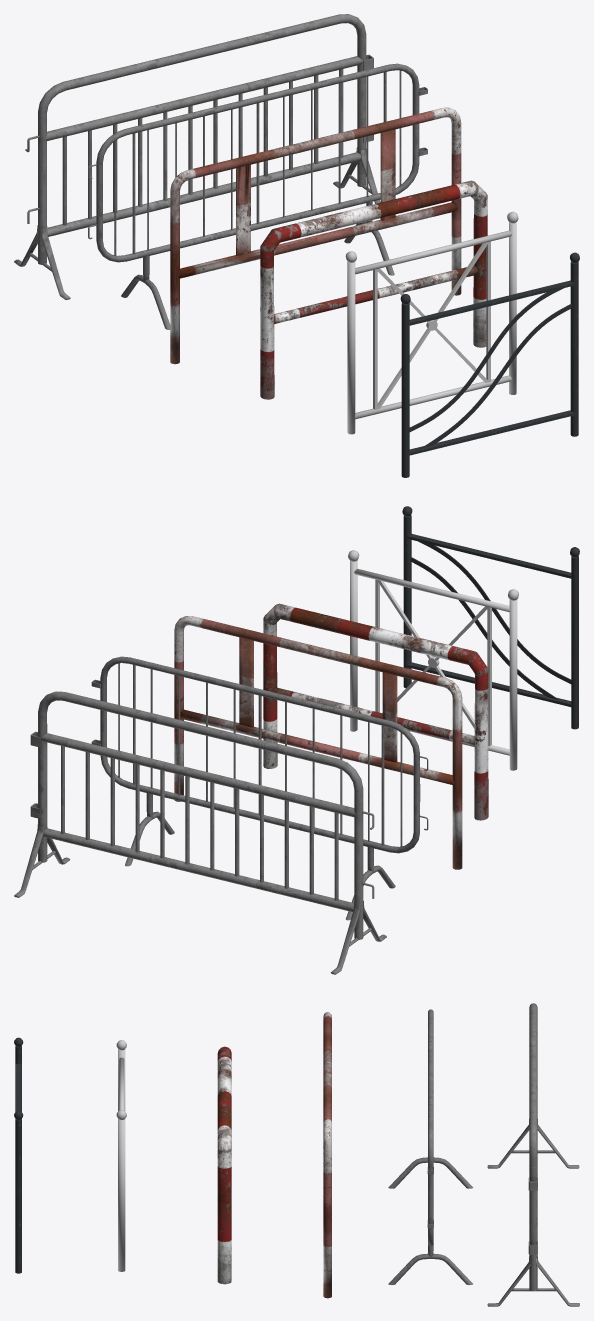
Rendered from fencepacklast.fbx.
3 renders of one model, top to bottom at view 1: azimuth 30°, elevation 25°; view 2: azimuth 150°, elevation 25°; view 3: azimuth 270°, elevation 25°, orthographic. The views are drawn at different scales.
Visible parts, largest first — view 1: Fence4, Fence1, Fence6, Fence2, Fence3, Fence5; view 2: Fence4, Fence1, Fence6, Fence2, Fence5, Fence3; view 3: Fence4, Fence2, Fence6, Fence1, Fence3, Fence5.
Boxes of the visible parts, x1,y1,x2,y2 form: Fence4: [14, 14, 380, 299]; Fence1: [170, 107, 461, 364]; Fence6: [88, 63, 427, 329]; Fence2: [260, 180, 487, 399]; Fence3: [345, 211, 518, 434]; Fence5: [400, 252, 579, 477]; Fence4: [14, 691, 386, 974]; Fence1: [174, 616, 462, 869]; Fence6: [91, 656, 428, 920]; Fence2: [263, 603, 488, 820]; Fence5: [402, 506, 579, 729]; Fence3: [348, 550, 518, 770]; Fence4: [487, 1003, 579, 1306]; Fence2: [217, 1046, 231, 1284]; Fence6: [388, 1009, 473, 1285]; Fence1: [323, 1012, 331, 1298]; Fence3: [116, 1040, 126, 1271]; Fence5: [14, 1037, 23, 1273].
Size of the model in its own units: 216 by 116 by 347.
